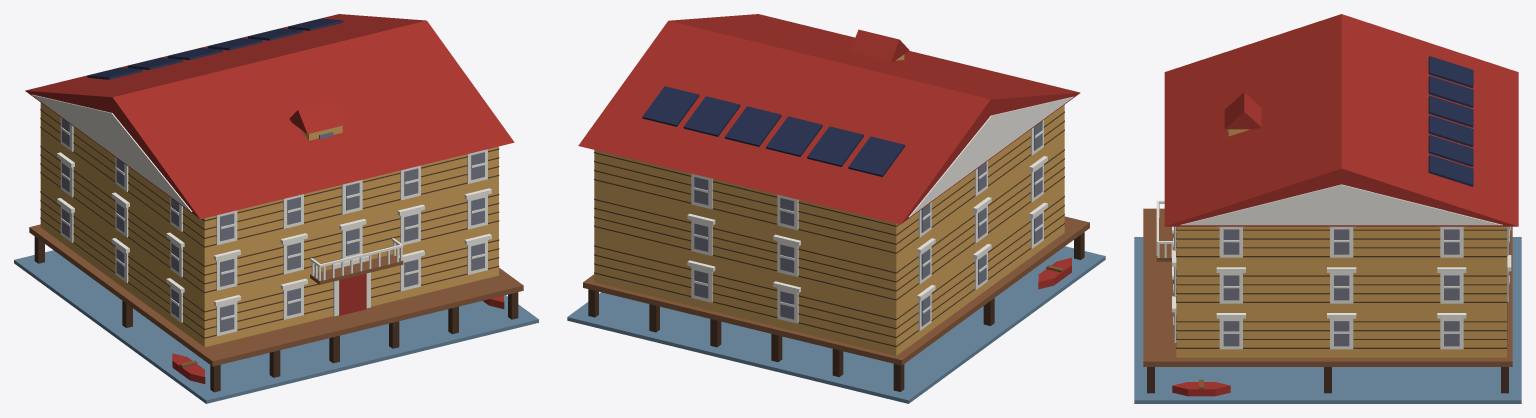
File: house-2x2-3f-palafito-a-solar.glb
3 views of the same model, side by side, from view 1: azimuth 30°, elevation 25°; view 2: azimuth 150°, elevation 25°; view 3: azimuth 270°, elevation 25° (orthographic). The views are drawn at different scales.
Parts seen in each view (by area): view 1: house-2x2-3f-palafito-a-solar; view 2: house-2x2-3f-palafito-a-solar; view 3: house-2x2-3f-palafito-a-solar.
Part boxes in pixels (x1,y1,x2,y2): house-2x2-3f-palafito-a-solar: [14, 14, 538, 403]; house-2x2-3f-palafito-a-solar: [567, 14, 1105, 403]; house-2x2-3f-palafito-a-solar: [1134, 14, 1521, 403].
Size of the model in its own units: 1.99 by 1.31 by 1.99.
1 material, 1 textured.
